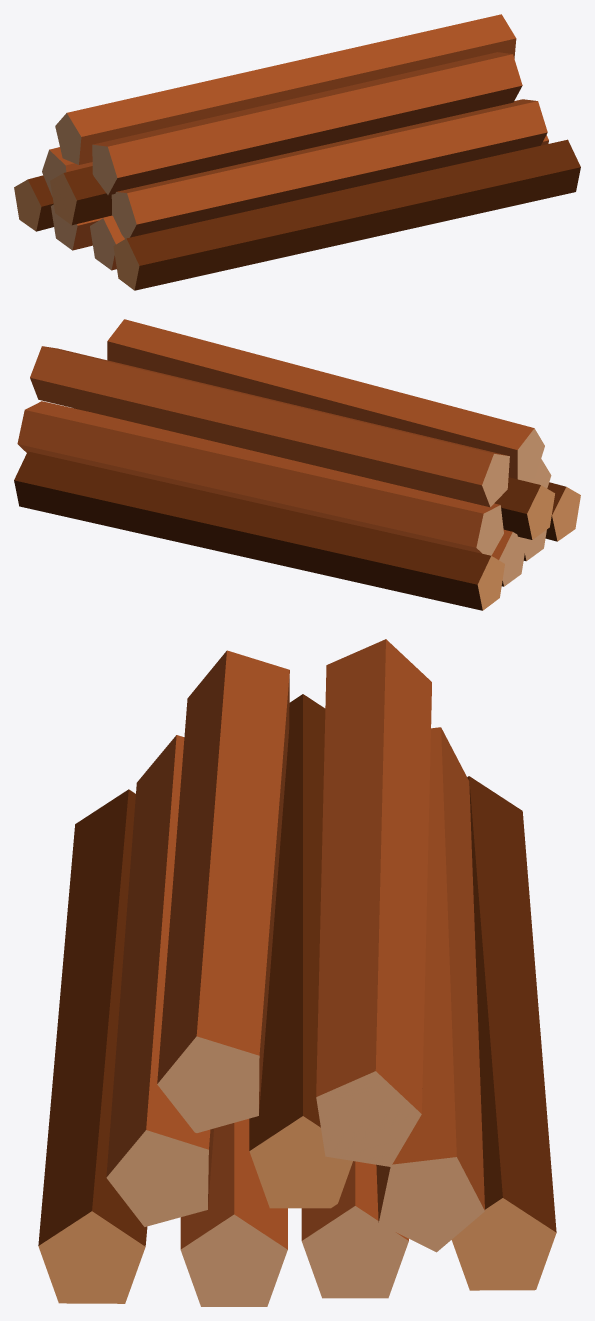
The model's file is Log 01.fbx.
3 views of the same model, one above another, from view 1: azimuth 30°, elevation 25°; view 2: azimuth 150°, elevation 25°; view 3: azimuth 270°, elevation 25° (orthographic). The views are drawn at different scales.
Parts seen in each view (by area): view 1: Log_01; view 2: Log_01; view 3: Log_01.
Part boxes in pixels (x1=…): Log_01: x1=14, y1=14, x2=580, y2=290; Log_01: x1=14, y1=319, x2=580, y2=610; Log_01: x1=38, y1=639, x2=556, y2=1306.
Size of the model in its own units: 187 by 48.33 by 91.84.
